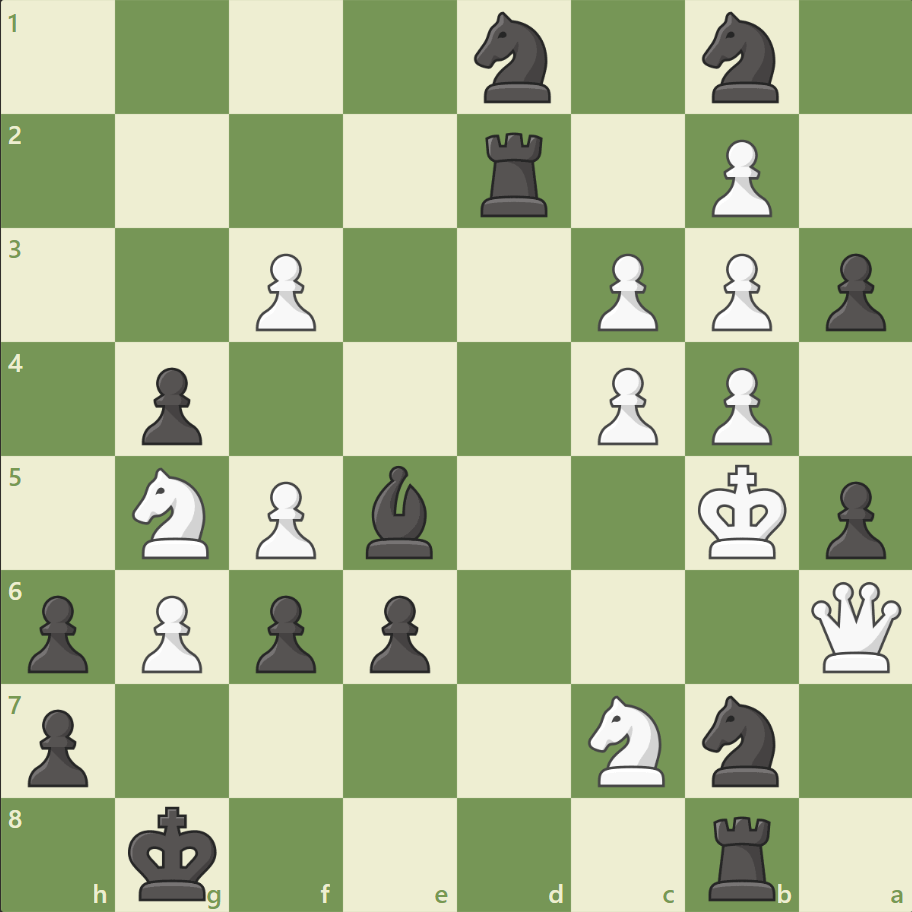K: (692, 458, 792, 566)
N: (124, 461, 222, 564), (579, 688, 676, 791)
P: (133, 586, 208, 677), (247, 473, 322, 564), (701, 359, 776, 450), (701, 246, 776, 337), (247, 246, 322, 337), (701, 132, 776, 223), (588, 359, 662, 450), (588, 246, 662, 337)
Q: (805, 576, 904, 676)
b: (358, 460, 442, 563)
k: (124, 798, 224, 906)
n: (692, 688, 789, 791), (692, 7, 789, 110), (465, 7, 562, 110)
p: (20, 700, 95, 791), (247, 586, 322, 677), (20, 586, 95, 677), (133, 359, 208, 450), (361, 586, 435, 677), (815, 473, 889, 564), (815, 246, 889, 337)
r: (700, 806, 783, 904), (473, 125, 556, 222)
